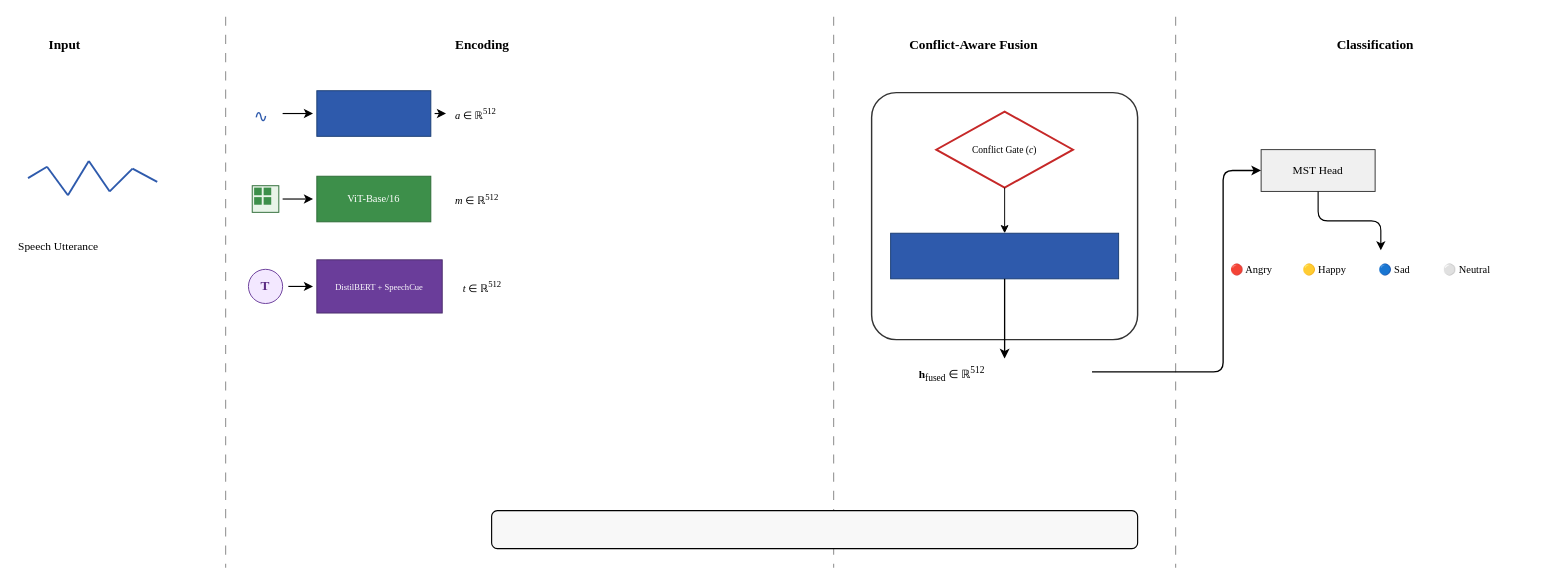
Some shapes in this 1556 by 586 pixel diagram are drawn without their labels. Each missing label, with the centre of its shape:
"Cross-Attention (3L×8H)" goes at [1004,255].
"IEMOCAP: 79.23% UA | 79.61% WA" goes at [814,529].
"Wav2Vec2" goes at [373,113].
